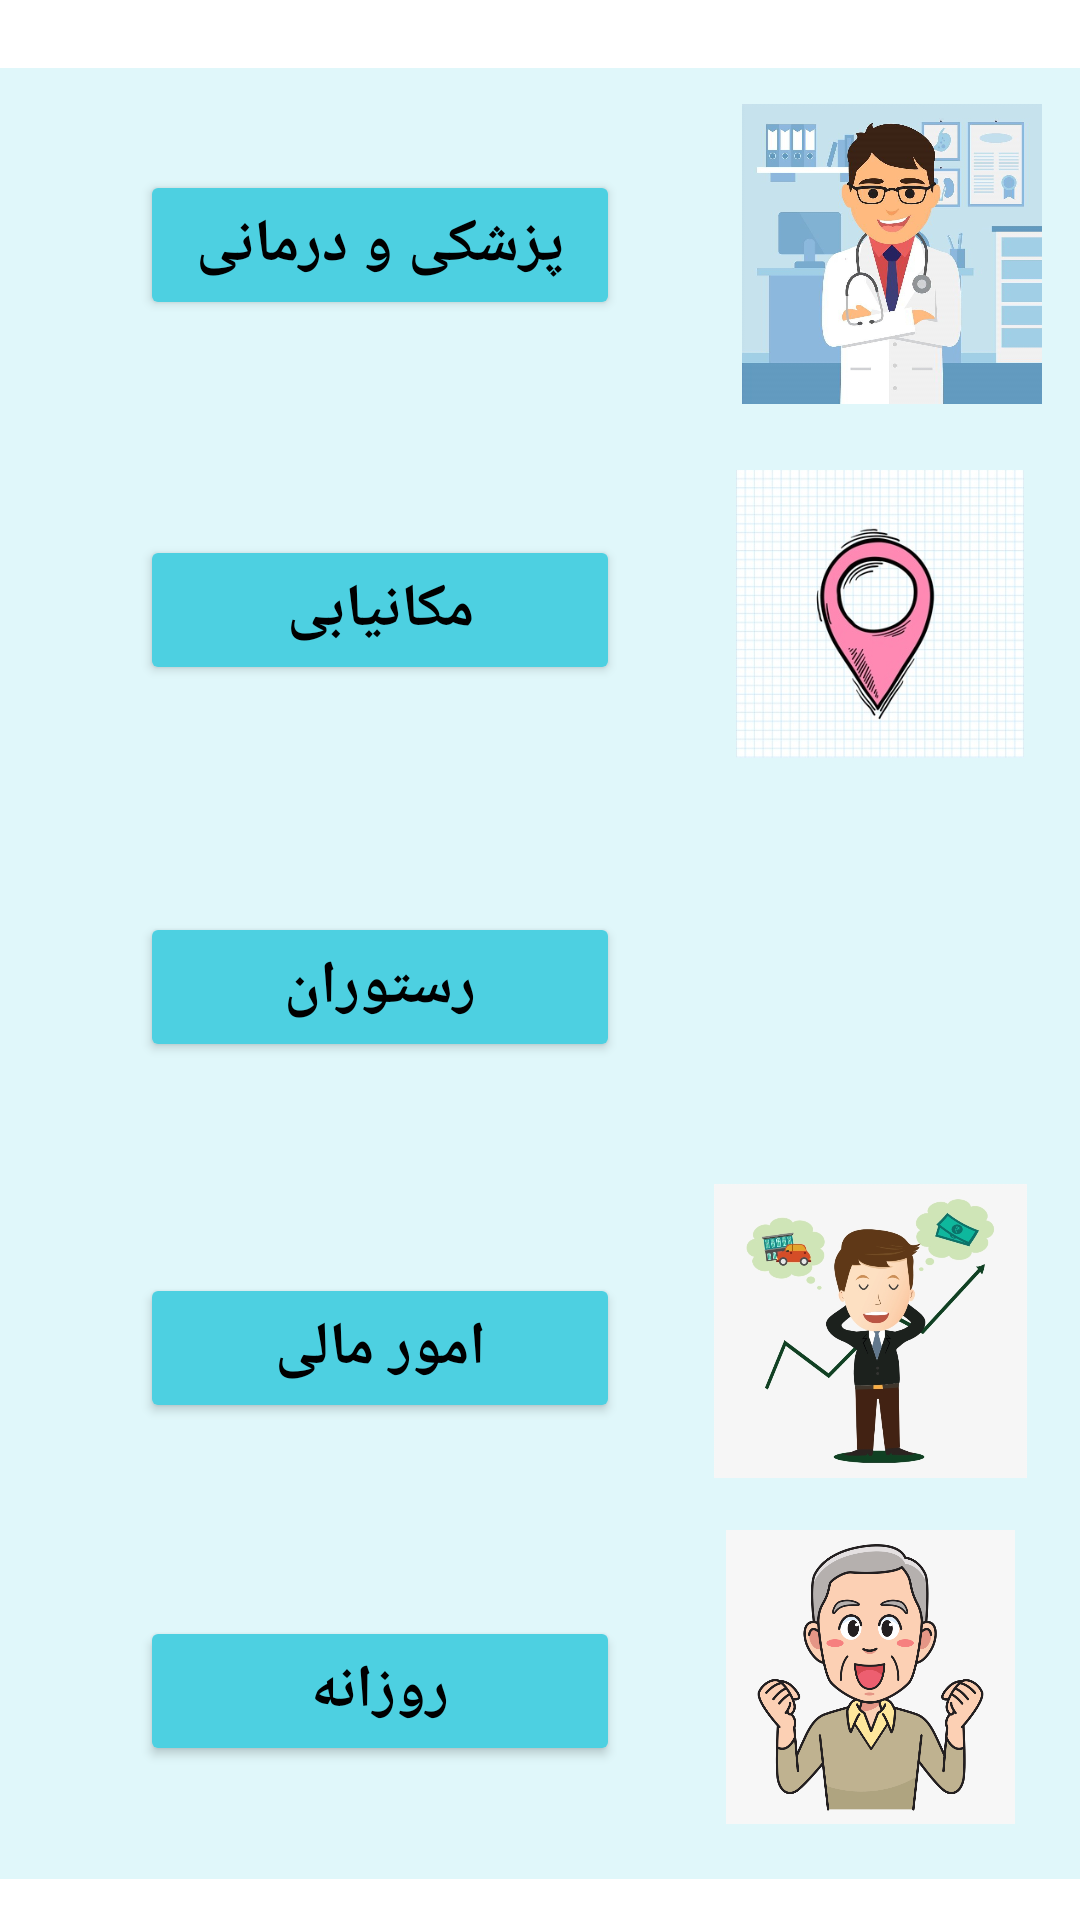

Where to tap for icons on this 1080px x 1920px app screen, as (x,y):
doctor: (892,254)
loc: (880,613)
money: (870,1331)
